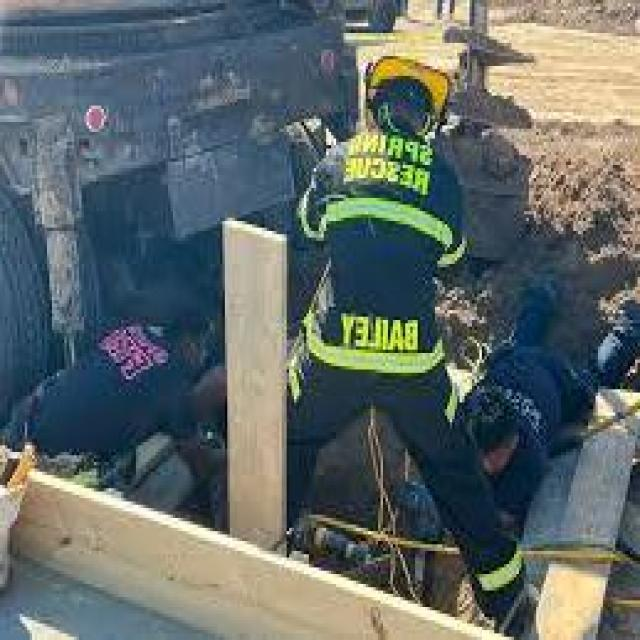Reflective-Jacket: (294, 118, 474, 260), (348, 23, 472, 125)
